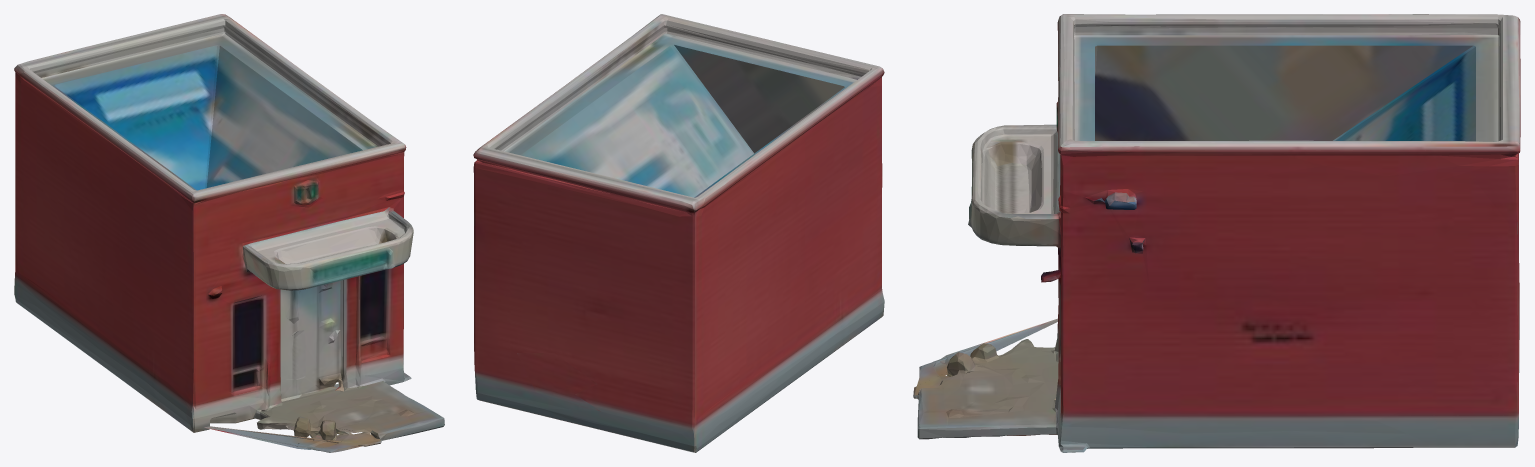
The model's file is gym_bld.glb.
The picture shows the model from 3 angles, left to right: view 1: azimuth 30°, elevation 25°; view 2: azimuth 150°, elevation 25°; view 3: azimuth 270°, elevation 25°; orthographic projection. The views are drawn at different scales.
Visible parts, largest first — view 1: textured_mesh.obj; view 2: textured_mesh.obj; view 3: textured_mesh.obj.
Boxes of the visible parts, x1,y1,x2,y2 form: textured_mesh.obj: (14,14,444,452); textured_mesh.obj: (473,14,884,452); textured_mesh.obj: (913,14,1520,452).
Bounding box in the file's own units: 7.75 × 8 × 14.42.
Materials: 1 (1 with a texture image).
